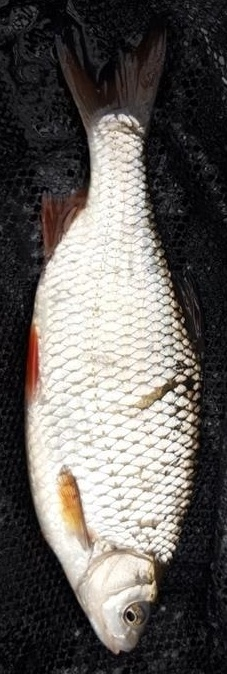Scardinius erythrophthalmus: (20, 20, 207, 654)
